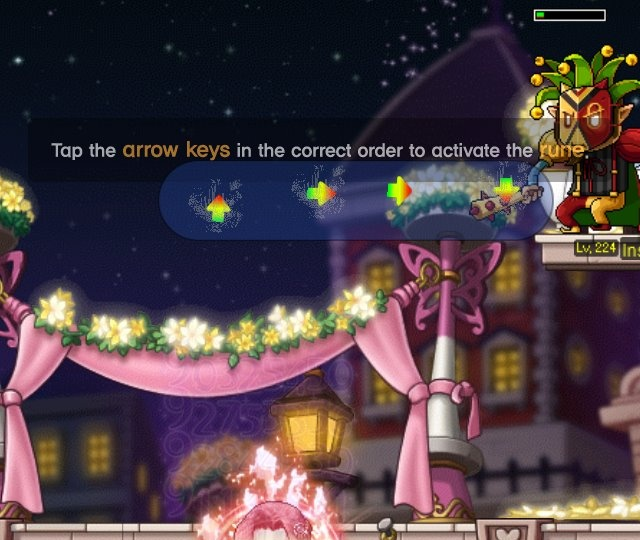rune_box: (152, 148, 565, 250)
